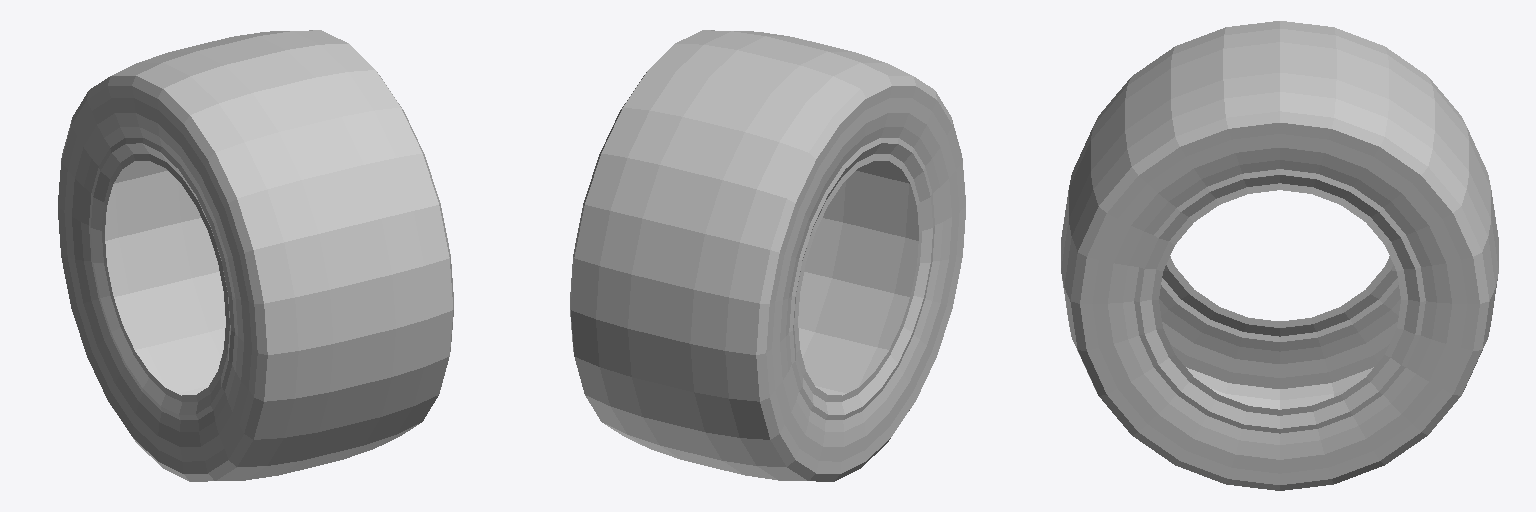
Rendered from Curves Tire.obj.
The picture shows the model from 3 angles: view 1: azimuth 30°, elevation 25°; view 2: azimuth 150°, elevation 25°; view 3: azimuth 270°, elevation 25°; orthographic projection.
Parts seen in each view (by area): view 1: loftedSurface1; view 2: loftedSurface1; view 3: loftedSurface1.
Part boxes in pixels (x1,y1,x2,y2): loftedSurface1: (58,30,453,481); loftedSurface1: (570,30,965,481); loftedSurface1: (1061,21,1498,490).
Bounding box in the file's own units: 2.29 × 4.42 × 4.42.